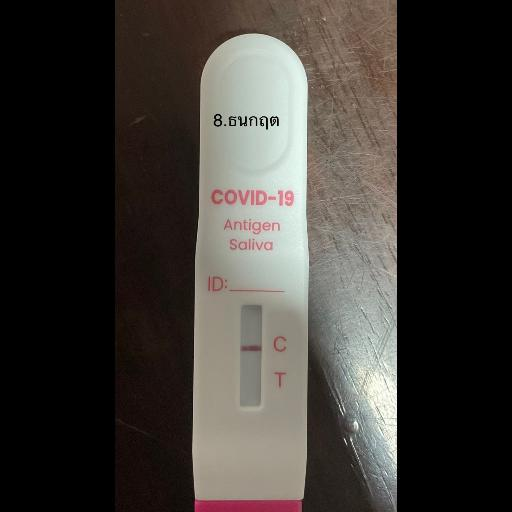Neg: (196, 34, 304, 510)
